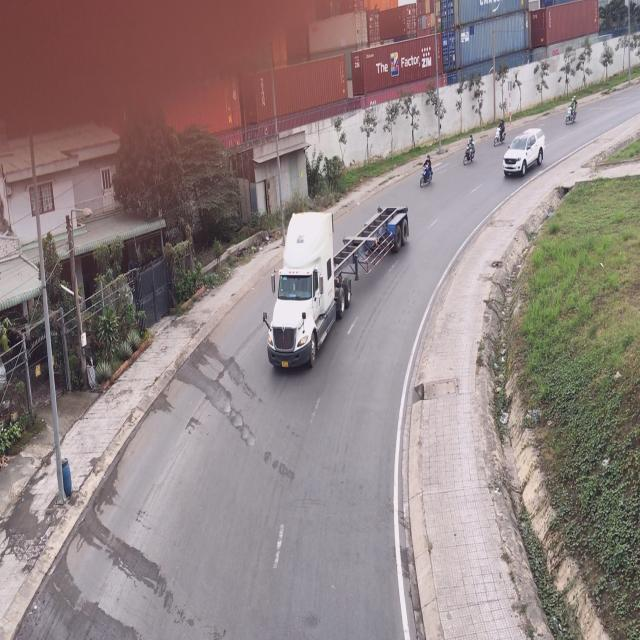car: (503, 132, 544, 182)
motorbike: (420, 154, 435, 191), (565, 94, 578, 128), (464, 134, 476, 168), (496, 118, 506, 148)
truck: (265, 206, 413, 374)
